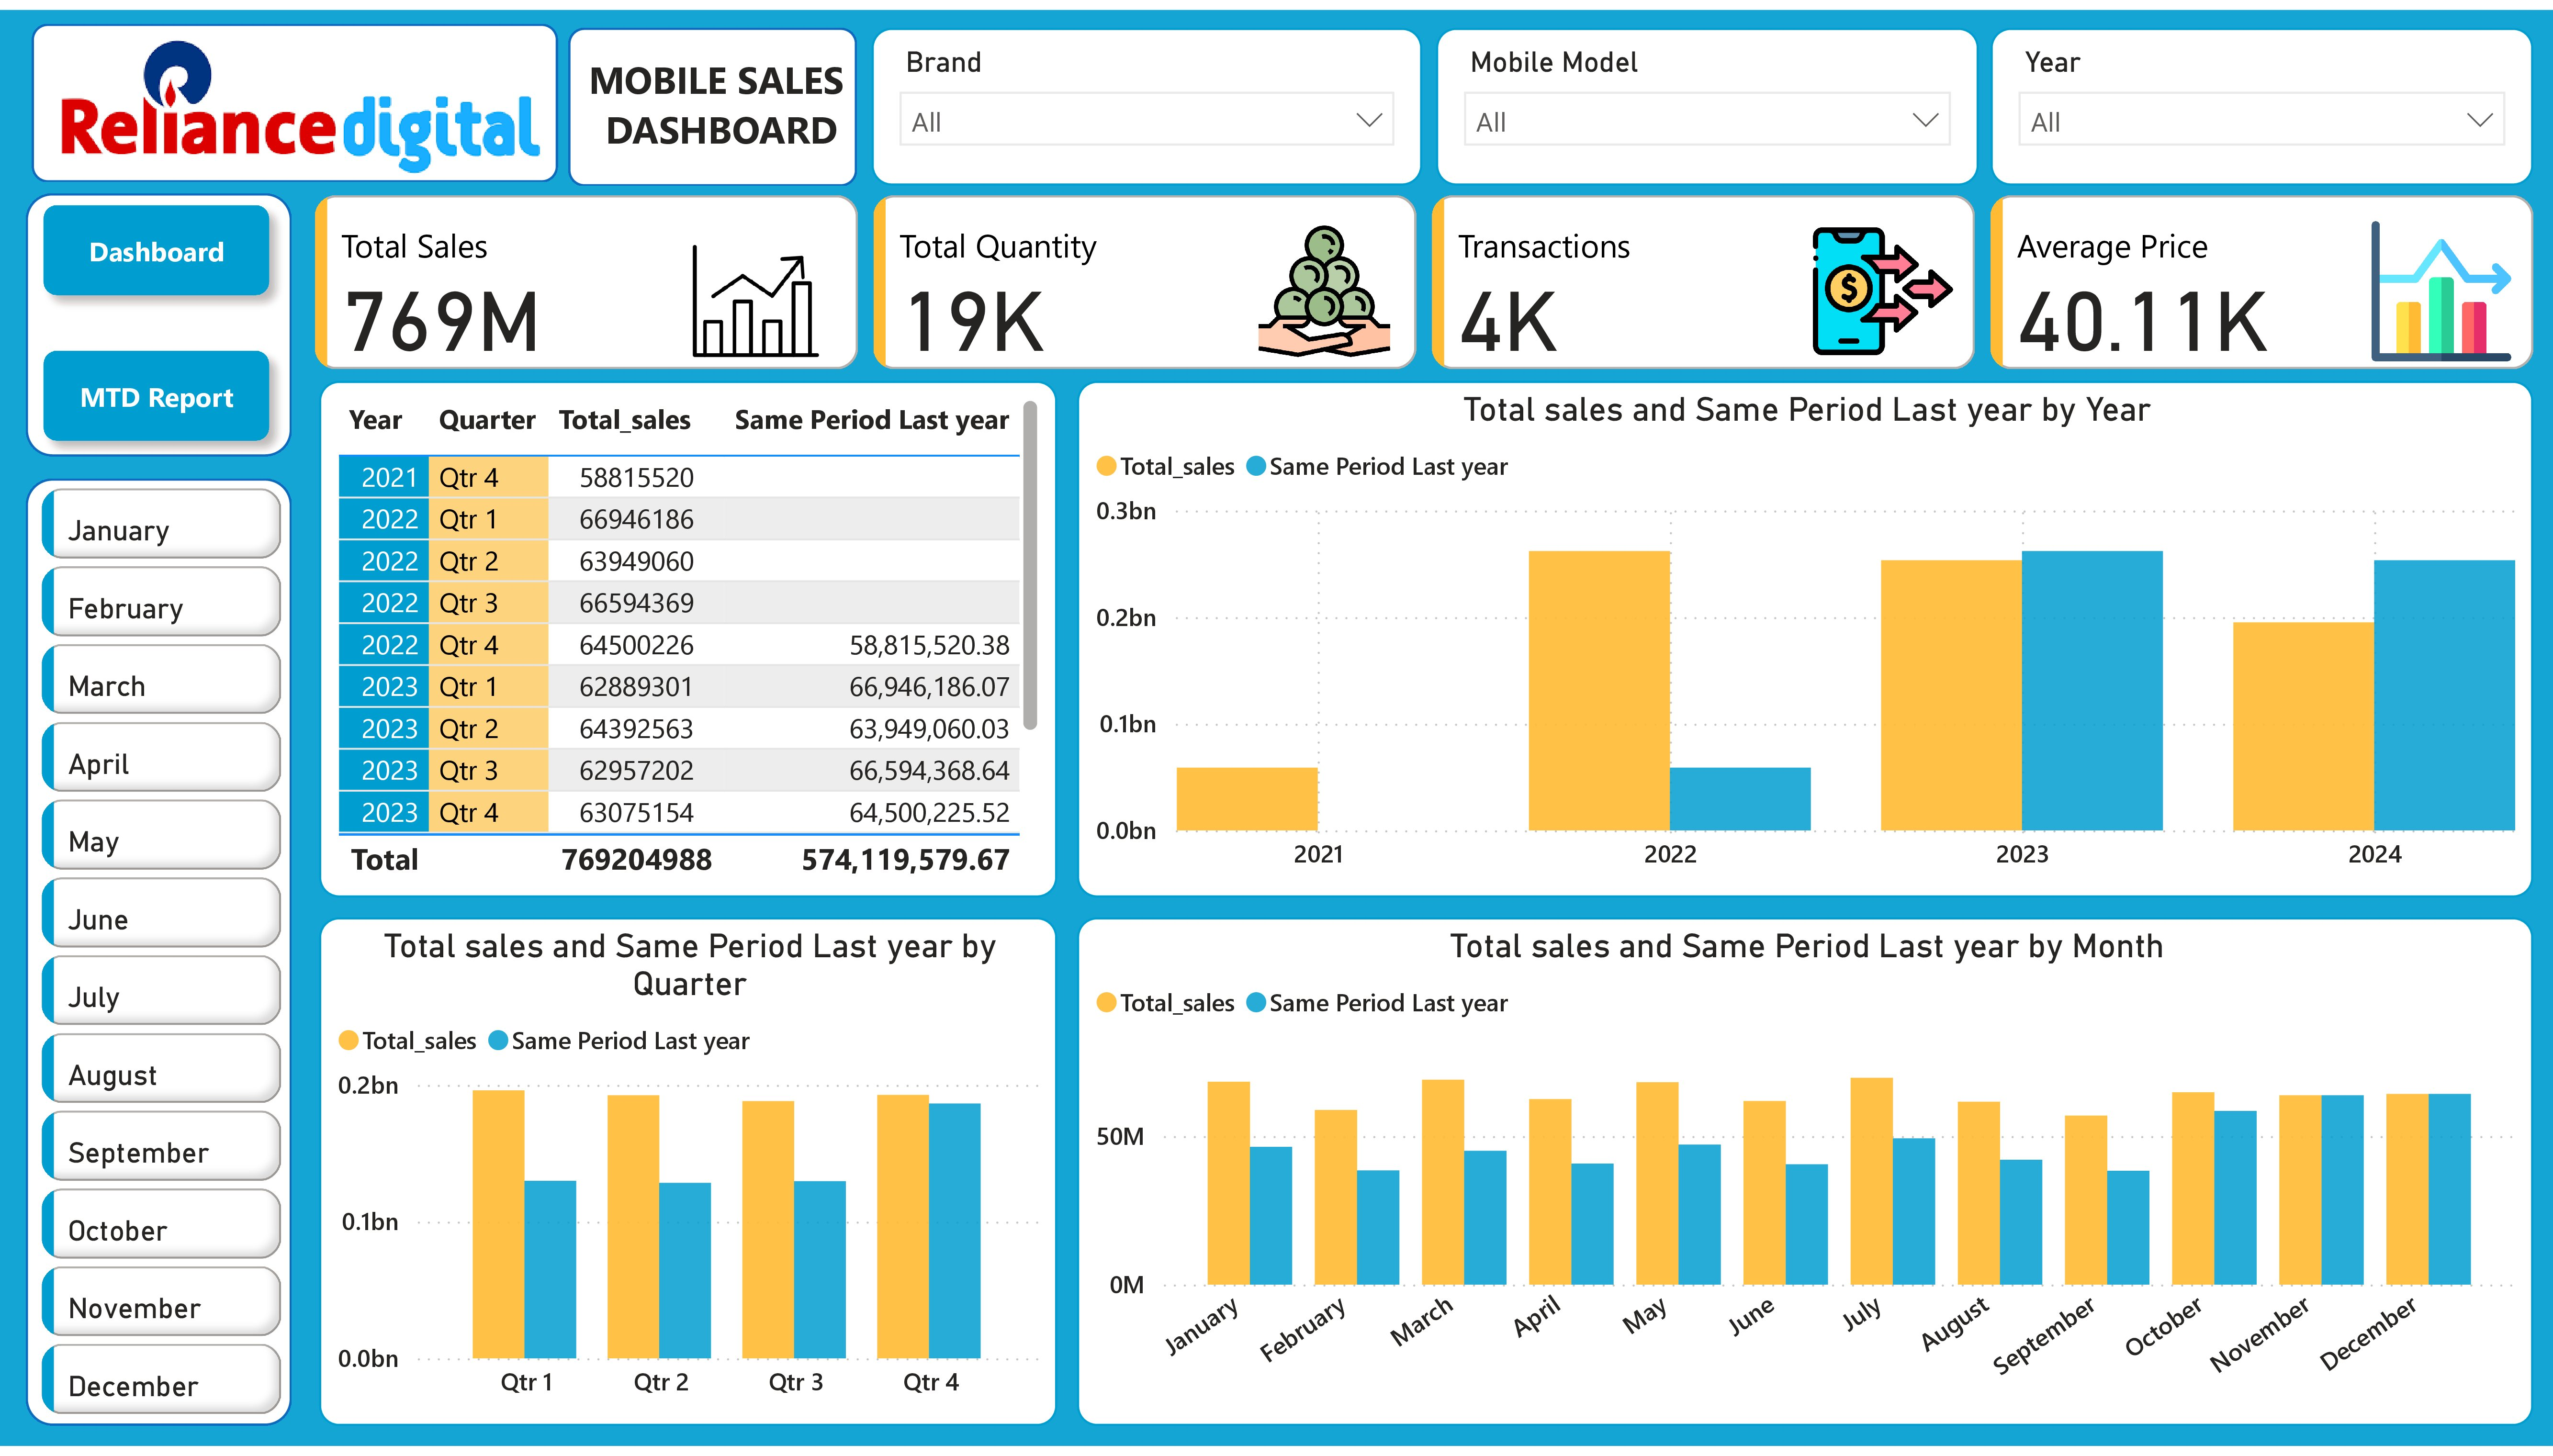

Layout of this report page (visuals, bound fields, positions):
{"tool":"powerbi","page":{"name":"Same Period Last Year Sales","canvas":[1280,720],"ordinal":2},"visuals":[{"type":"shape","box":[12.8,92.1,133.2,131.8],"z":0},{"type":"shape","box":[12.8,235.3,133.2,474.8],"z":1000},{"type":"cardVisual","fields":{"Data":["Sales Data.Total_sales","Sales Data.Total_Quantity","Sales Data.Transactions","Sales Data.Average_price"]},"box":[153.1,87.9,1122.5,97.8],"z":2000},{"type":"slicer","fields":{"Values":["Sales Data.Brand"]},"box":[436.5,8.5,276.4,79.4],"z":3000},{"type":"slicer","fields":{"Values":["Sales Data.Mobile Model"]},"box":[720,8.5,272.1,79.4],"z":4000},{"type":"slicer","fields":{"Values":["Custom_calender.Date.Variation.Date Hierarchy.Year"]},"box":[997.8,8.5,272.1,79.4],"z":5000},{"type":"advancedSlicerVisual","fields":{"Values":["Custom_calender.Date.Variation.Date Hierarchy.Month"]},"box":[15.6,235.3,130.4,484.7],"z":6000},{"type":"tableEx","fields":{"Values":["Custom_calender.Date.Variation.Date Hierarchy.Year","Custom_calender.Date.Variation.Date Hierarchy.Quarter","Sales Data.Total_sales","Sales Data.Same Period Last year"]},"box":[160.2,185.7,369.9,259.4],"z":7000},{"type":"clusteredColumnChart","title":"Total sales and Same Period Last year by Year","fields":{"Category":["Custom_calender.Date.Variation.Date Hierarchy.Year","Custom_calender.Date.Variation.Date Hierarchy.Quarter","Custom_calender.Date.Variation.Date Hierarchy.Month","Custom_calender.Date.Variation.Date Hierarchy.Day"],"Y":["Sales Data.Total_sales","Sales Data.Same Period Last year"]},"box":[540,185.7,729.9,259.4],"z":8000},{"type":"clusteredColumnChart","title":"Total sales and Same Period Last year by Quarter","fields":{"Category":["Custom_calender.Date.Variation.Date Hierarchy.Year","Custom_calender.Date.Variation.Date Hierarchy.Quarter"],"Y":["Sales Data.Total_sales","Sales Data.Same Period Last year"]},"box":[160.2,455,369.9,255.1],"z":9000},{"type":"clusteredColumnChart","title":"Total sales and Same Period Last year by Month","fields":{"Category":["Custom_calender.Date.Variation.Date Hierarchy.Year","Custom_calender.Date.Variation.Date Hierarchy.Quarter","Custom_calender.Date.Variation.Date Hierarchy.Month","Custom_calender.Date.Variation.Date Hierarchy.Day"],"Y":["Sales Data.Total_sales","Sales Data.Same Period Last year"]},"box":[540,455,729.9,255.1],"z":10000},{"type":"pageNavigator","box":[12.8,89.3,131.8,137.5],"z":11000},{"type":"shape","box":[284.9,8.5,144.6,79.4],"z":12000},{"type":"shape","box":[15.6,7.1,263.6,79.4],"z":13000},{"type":"textbox","box":[287.7,17,147.4,85],"z":14000},{"type":"image","box":[24.1,8.5,253.7,78],"z":15000}]}

Visuals, with their boxes in screenshot pixels (x1, y1, x2, y2), scaled from the page's 1280x720 canvas onto the 2553x1456 screenshot:
shape: <bbox>25, 186, 291, 453</bbox>
shape: <bbox>25, 476, 291, 1436</bbox>
cardVisual - Sales Data.Total_sales x Sales Data.Total_Quantity: <bbox>305, 178, 2544, 376</bbox>
slicer - Sales Data.Brand: <bbox>871, 17, 1422, 178</bbox>
slicer - Sales Data.Mobile Model: <bbox>1436, 17, 1979, 178</bbox>
slicer - Custom_calender.Date.Variation.Date Hierarchy.Year: <bbox>1990, 17, 2533, 178</bbox>
advancedSlicerVisual - Custom_calender.Date.Variation.Date Hierarchy.Month: <bbox>31, 476, 291, 1456</bbox>
tableEx - Custom_calender.Date.Variation.Date Hierarchy.Year x Custom_calender.Date.Variation.Date Hierarchy.Quarter: <bbox>319, 376, 1057, 900</bbox>
"Total sales and Same Period Last year by Year" clusteredColumnChart: <bbox>1077, 376, 2533, 900</bbox>
"Total sales and Same Period Last year by Quarter" clusteredColumnChart: <bbox>319, 920, 1057, 1436</bbox>
"Total sales and Same Period Last year by Month" clusteredColumnChart: <bbox>1077, 920, 2533, 1436</bbox>
pageNavigator: <bbox>25, 180, 288, 459</bbox>
shape: <bbox>568, 17, 856, 178</bbox>
shape: <bbox>31, 14, 557, 175</bbox>
textbox: <bbox>574, 34, 868, 206</bbox>
image: <bbox>48, 17, 554, 175</bbox>
